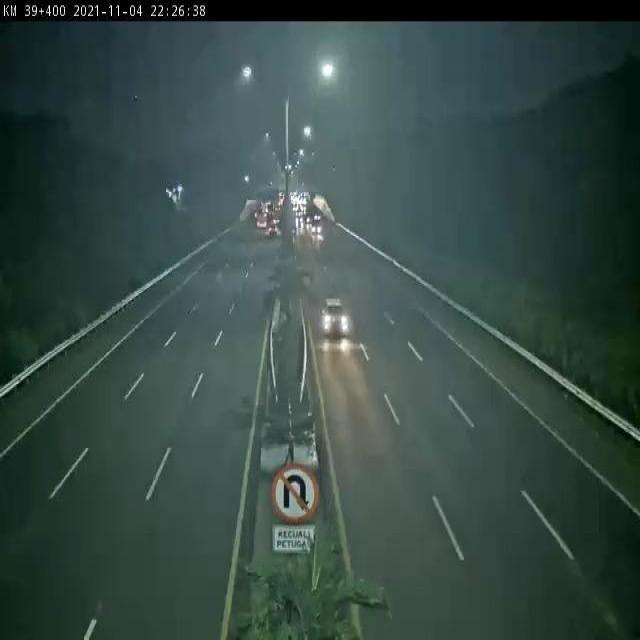car: (318, 287, 352, 353), (309, 212, 322, 243), (256, 212, 268, 235)
